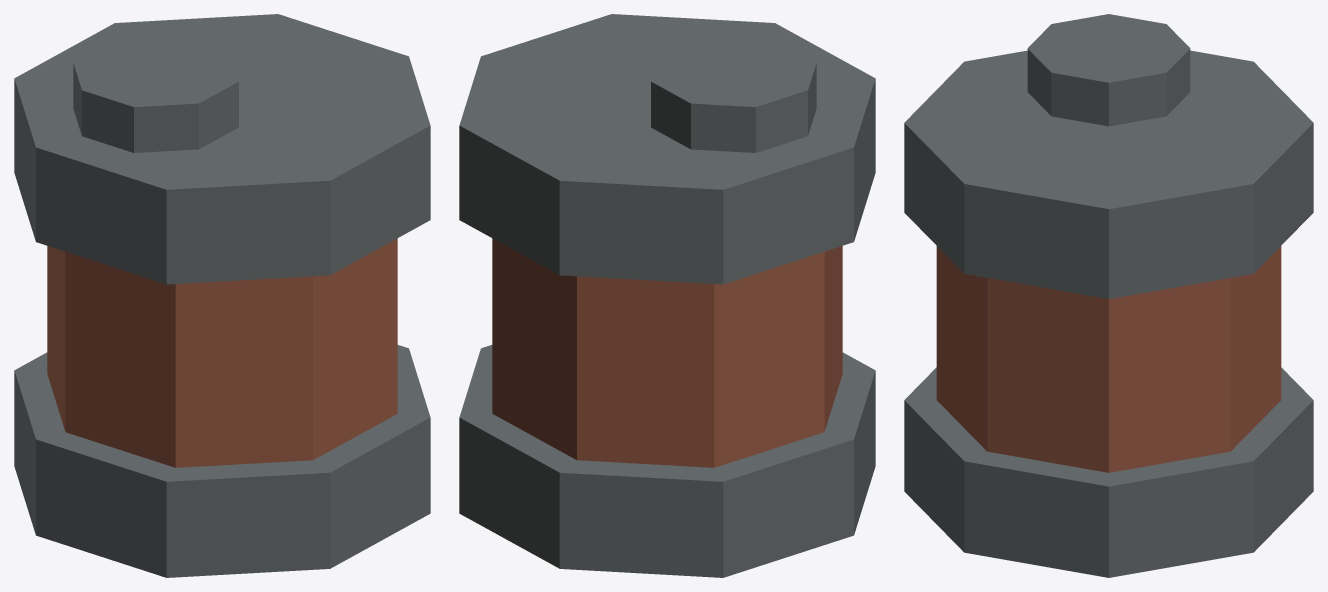
The model's file is barrel.fbx.
The picture shows the model from 3 angles, left to right: view 1: azimuth 30°, elevation 25°; view 2: azimuth 150°, elevation 25°; view 3: azimuth 270°, elevation 25°; orthographic projection. The views are drawn at different scales.
Visible parts, largest first — view 1: barrel; view 2: barrel; view 3: barrel.
Boxes of the visible parts, x1,y1,x2,y2 form: barrel: (14, 14, 430, 577); barrel: (459, 14, 875, 577); barrel: (904, 14, 1313, 577).
Size of the model in its own units: 45.32 by 50.38 by 45.32.
